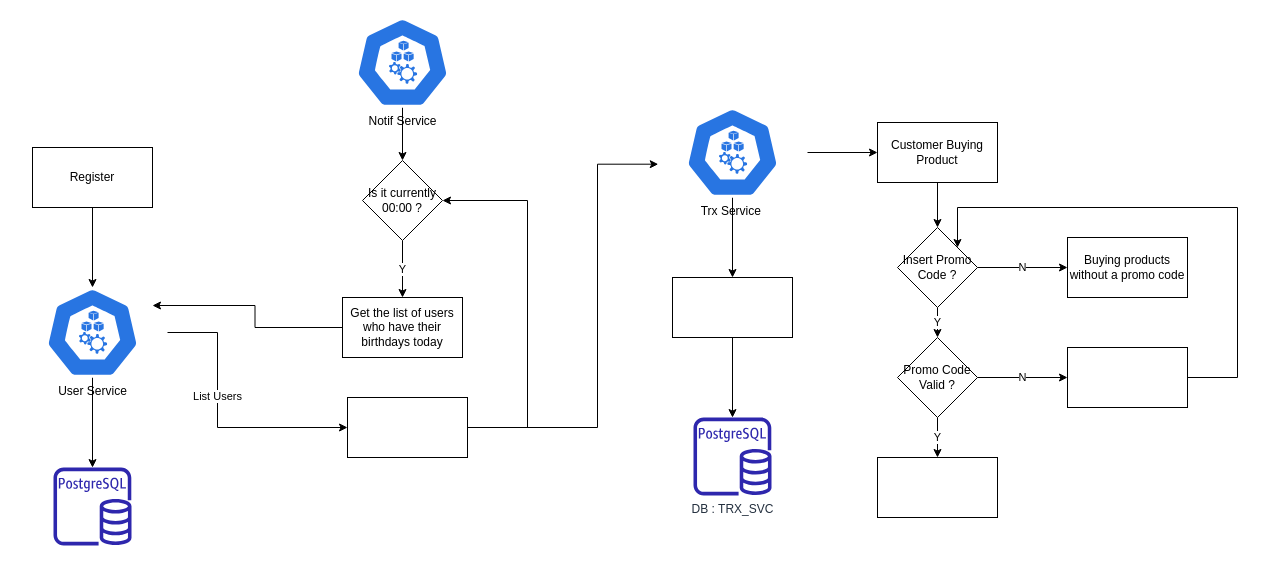
The diagram is 1263 pixels wide and 584 high, and some of its shapes have lost their labels. The shapes that lost their labels are listed below. From the top down, each one's centre as x and y in pixels, then its label:
point (732, 307): Save Promo Code
point (1127, 377): Return Error Invalid Promo Code
point (407, 427): Send email and WhatsApp birthday greetings and a birthday promo code.
point (92, 506): DB : USER_SVC
point (937, 487): Buying products with a promo code
